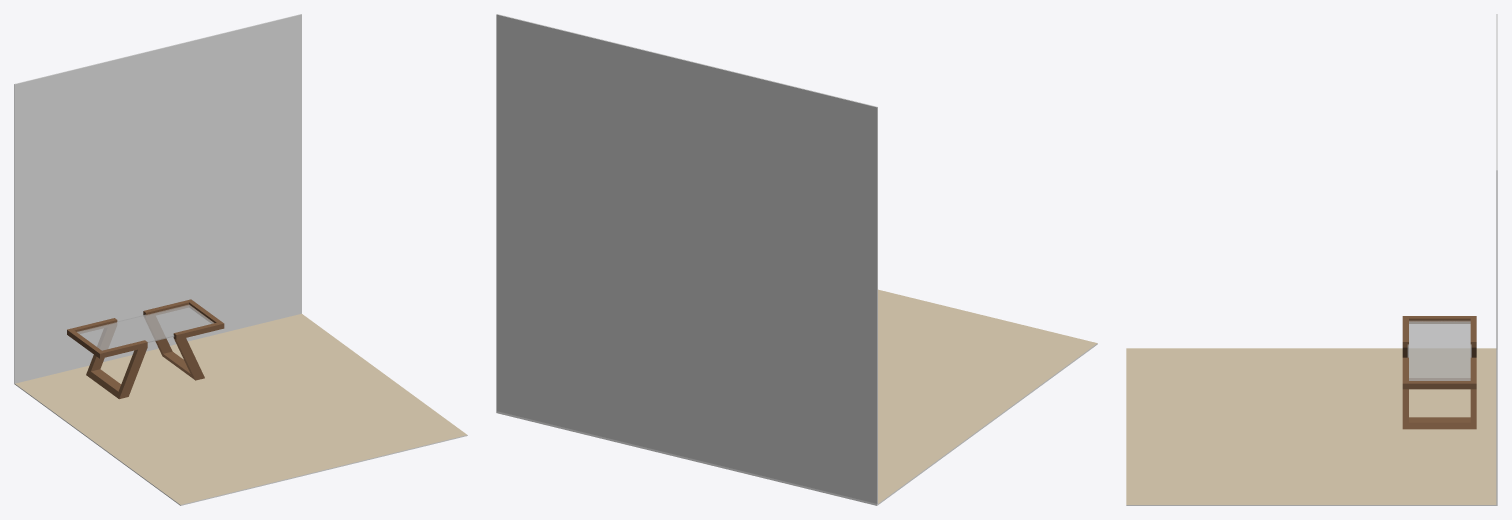
3 views of the same model, side by side, from view 1: azimuth 30°, elevation 25°; view 2: azimuth 150°, elevation 25°; view 3: azimuth 270°, elevation 25° (orthographic). The views are drawn at different scales.
Visible parts, largest first — view 1: Node59, Node58, Node49, Node53, Node15, Node28, Node63, Node42; view 2: Node57, Node59, Node58, Node63; view 3: Node58, Node49, Node53, Node45, Node61, Node41, Node22, Node29.
Part boxes in pixels (x1=…): Node59: x1=15, y1=14, x2=301, y2=383; Node58: x1=15, y1=313, x2=466, y2=504; Node49: x1=77, y1=304, x2=213, y2=350; Node53: x1=78, y1=306, x2=212, y2=350; Node15: x1=100, y1=342, x2=147, y2=399; Node28: x1=176, y1=323, x2=224, y2=380; Node63: x1=14, y1=84, x2=180, y2=505; Node42: x1=86, y1=328, x2=137, y2=398; Node57: x1=496, y1=14, x2=876, y2=505; Node59: x1=497, y1=14, x2=877, y2=503; Node58: x1=878, y1=289, x2=1097, y2=503; Node63: x1=877, y1=107, x2=1097, y2=505; Node58: x1=1126, y1=348, x2=1496, y2=504; Node49: x1=1407, y1=320, x2=1471, y2=380; Node53: x1=1408, y1=322, x2=1471, y2=380; Node45: x1=1402, y1=389, x2=1476, y2=429; Node61: x1=1496, y1=170, x2=1497, y2=505; Node41: x1=1402, y1=357, x2=1476, y2=383; Node22: x1=1402, y1=316, x2=1476, y2=341; Node29: x1=1402, y1=383, x2=1476, y2=389.
Size of the model in its own units: 118 by 118 by 119.
